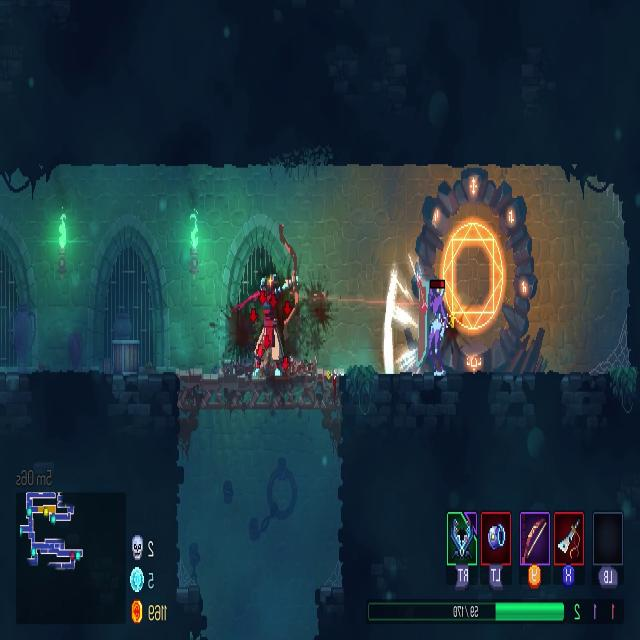agents: (243, 272, 301, 384)
enemy_purple_shield: (408, 275, 448, 380)
